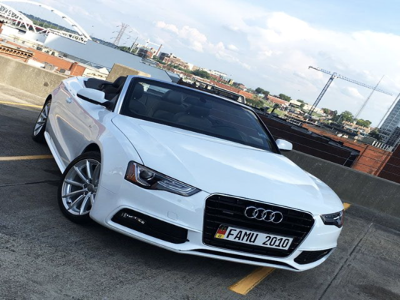licence: (222, 225, 295, 253)
